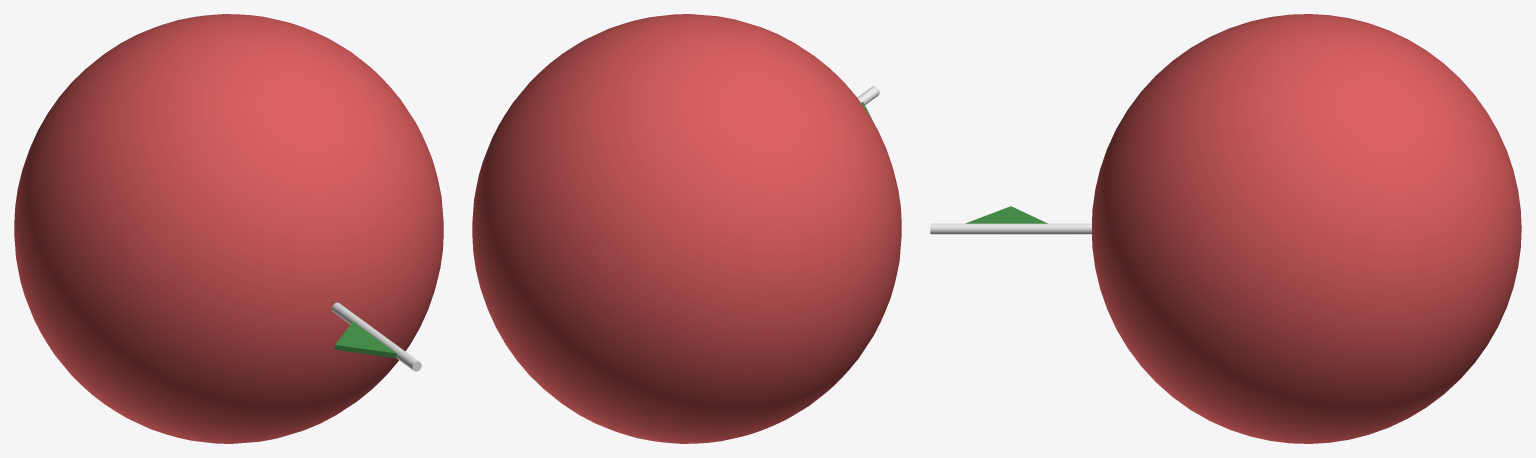
File: ball.fbx
The picture shows the model from 3 angles, left to right: view 1: azimuth 30°, elevation 25°; view 2: azimuth 150°, elevation 25°; view 3: azimuth 270°, elevation 25°; orthographic projection.
Visible parts, largest first — view 1: Body21, Body23, Body22; view 2: Body21; view 3: Body21, Body22, Body23.
Boxes of the visible parts, x1,y1,x2,y2 form: Body21: (14, 14, 443, 443); Body23: (335, 321, 396, 358); Body22: (331, 302, 421, 371); Body21: (472, 14, 901, 443); Body21: (1092, 14, 1521, 443); Body22: (930, 223, 1091, 234); Body23: (965, 206, 1047, 223).
Size of the model in its own units: 80 by 79.99 by 110.
